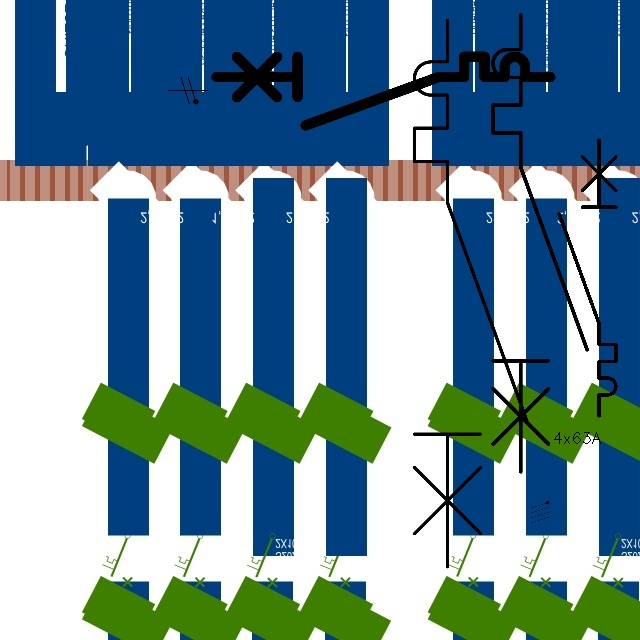interruptor_termomagnetico: (400, 6, 540, 580), (481, 3, 598, 484), (207, 48, 558, 134), (552, 133, 623, 423)
